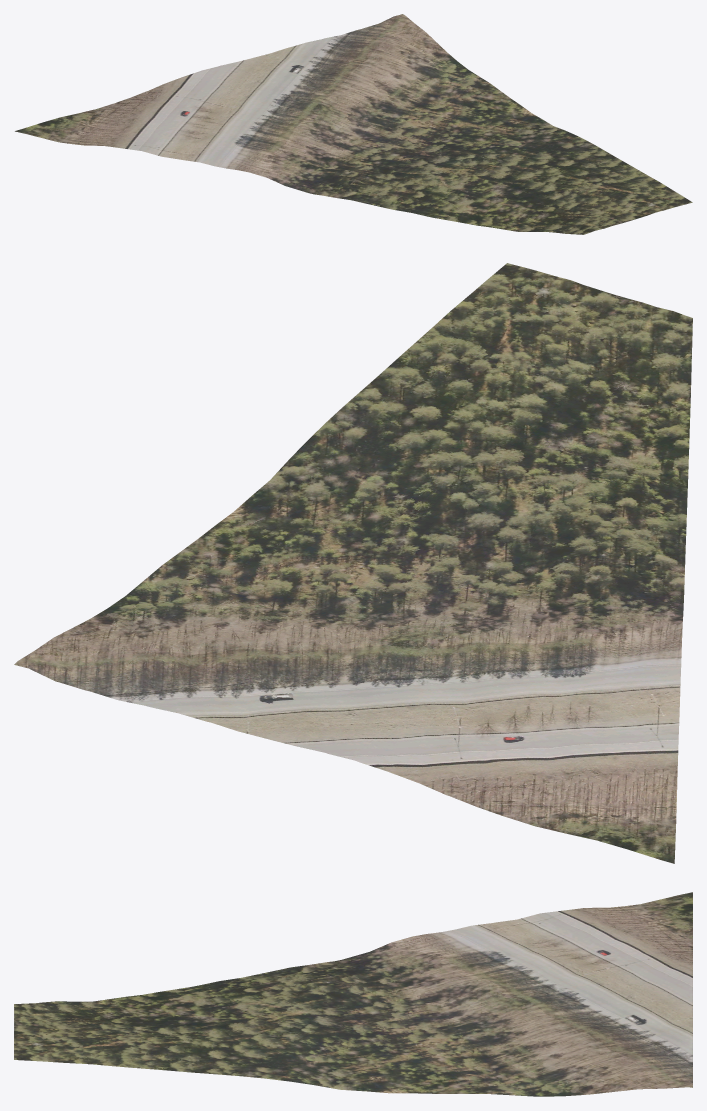
Rendered from CM_Terrain_24490049_6817336.fbx.
3 views of the same model, one above another, from view 1: azimuth 30°, elevation 25°; view 2: azimuth 150°, elevation 25°; view 3: azimuth 270°, elevation 25° (orthographic). The views are drawn at different scales.
Visible parts, largest first — view 1: CM_Terrain_24490049_6817336_LOD0; view 2: CM_Terrain_24490049_6817336_LOD0; view 3: CM_Terrain_24490049_6817336_LOD0.
Boxes of the visible parts, left/top/right/bottom form: CM_Terrain_24490049_6817336_LOD0: left=15, top=14, right=692, bottom=234; CM_Terrain_24490049_6817336_LOD0: left=14, top=263, right=692, bottom=863; CM_Terrain_24490049_6817336_LOD0: left=14, top=892, right=692, bottom=1096.
Size of what is drawn, in the model's own units: 158 by 18.04 by 205.
